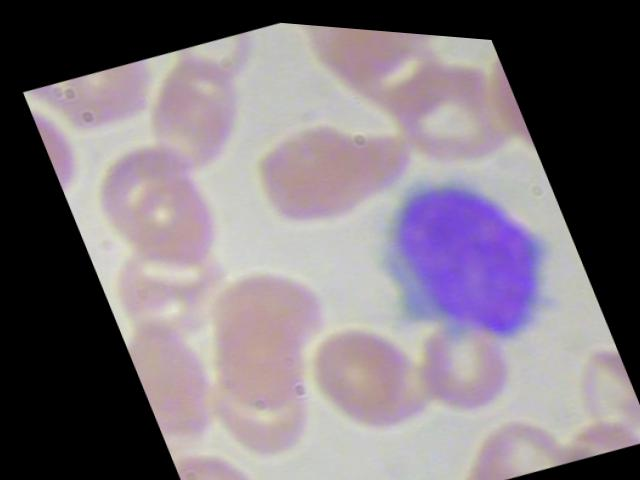Red Blood Cells: (237, 86, 433, 241), (125, 40, 269, 188), (284, 300, 431, 444), (400, 376, 568, 479), (392, 295, 519, 423), (542, 390, 639, 460)
White Blood Cells: (336, 124, 584, 384)
